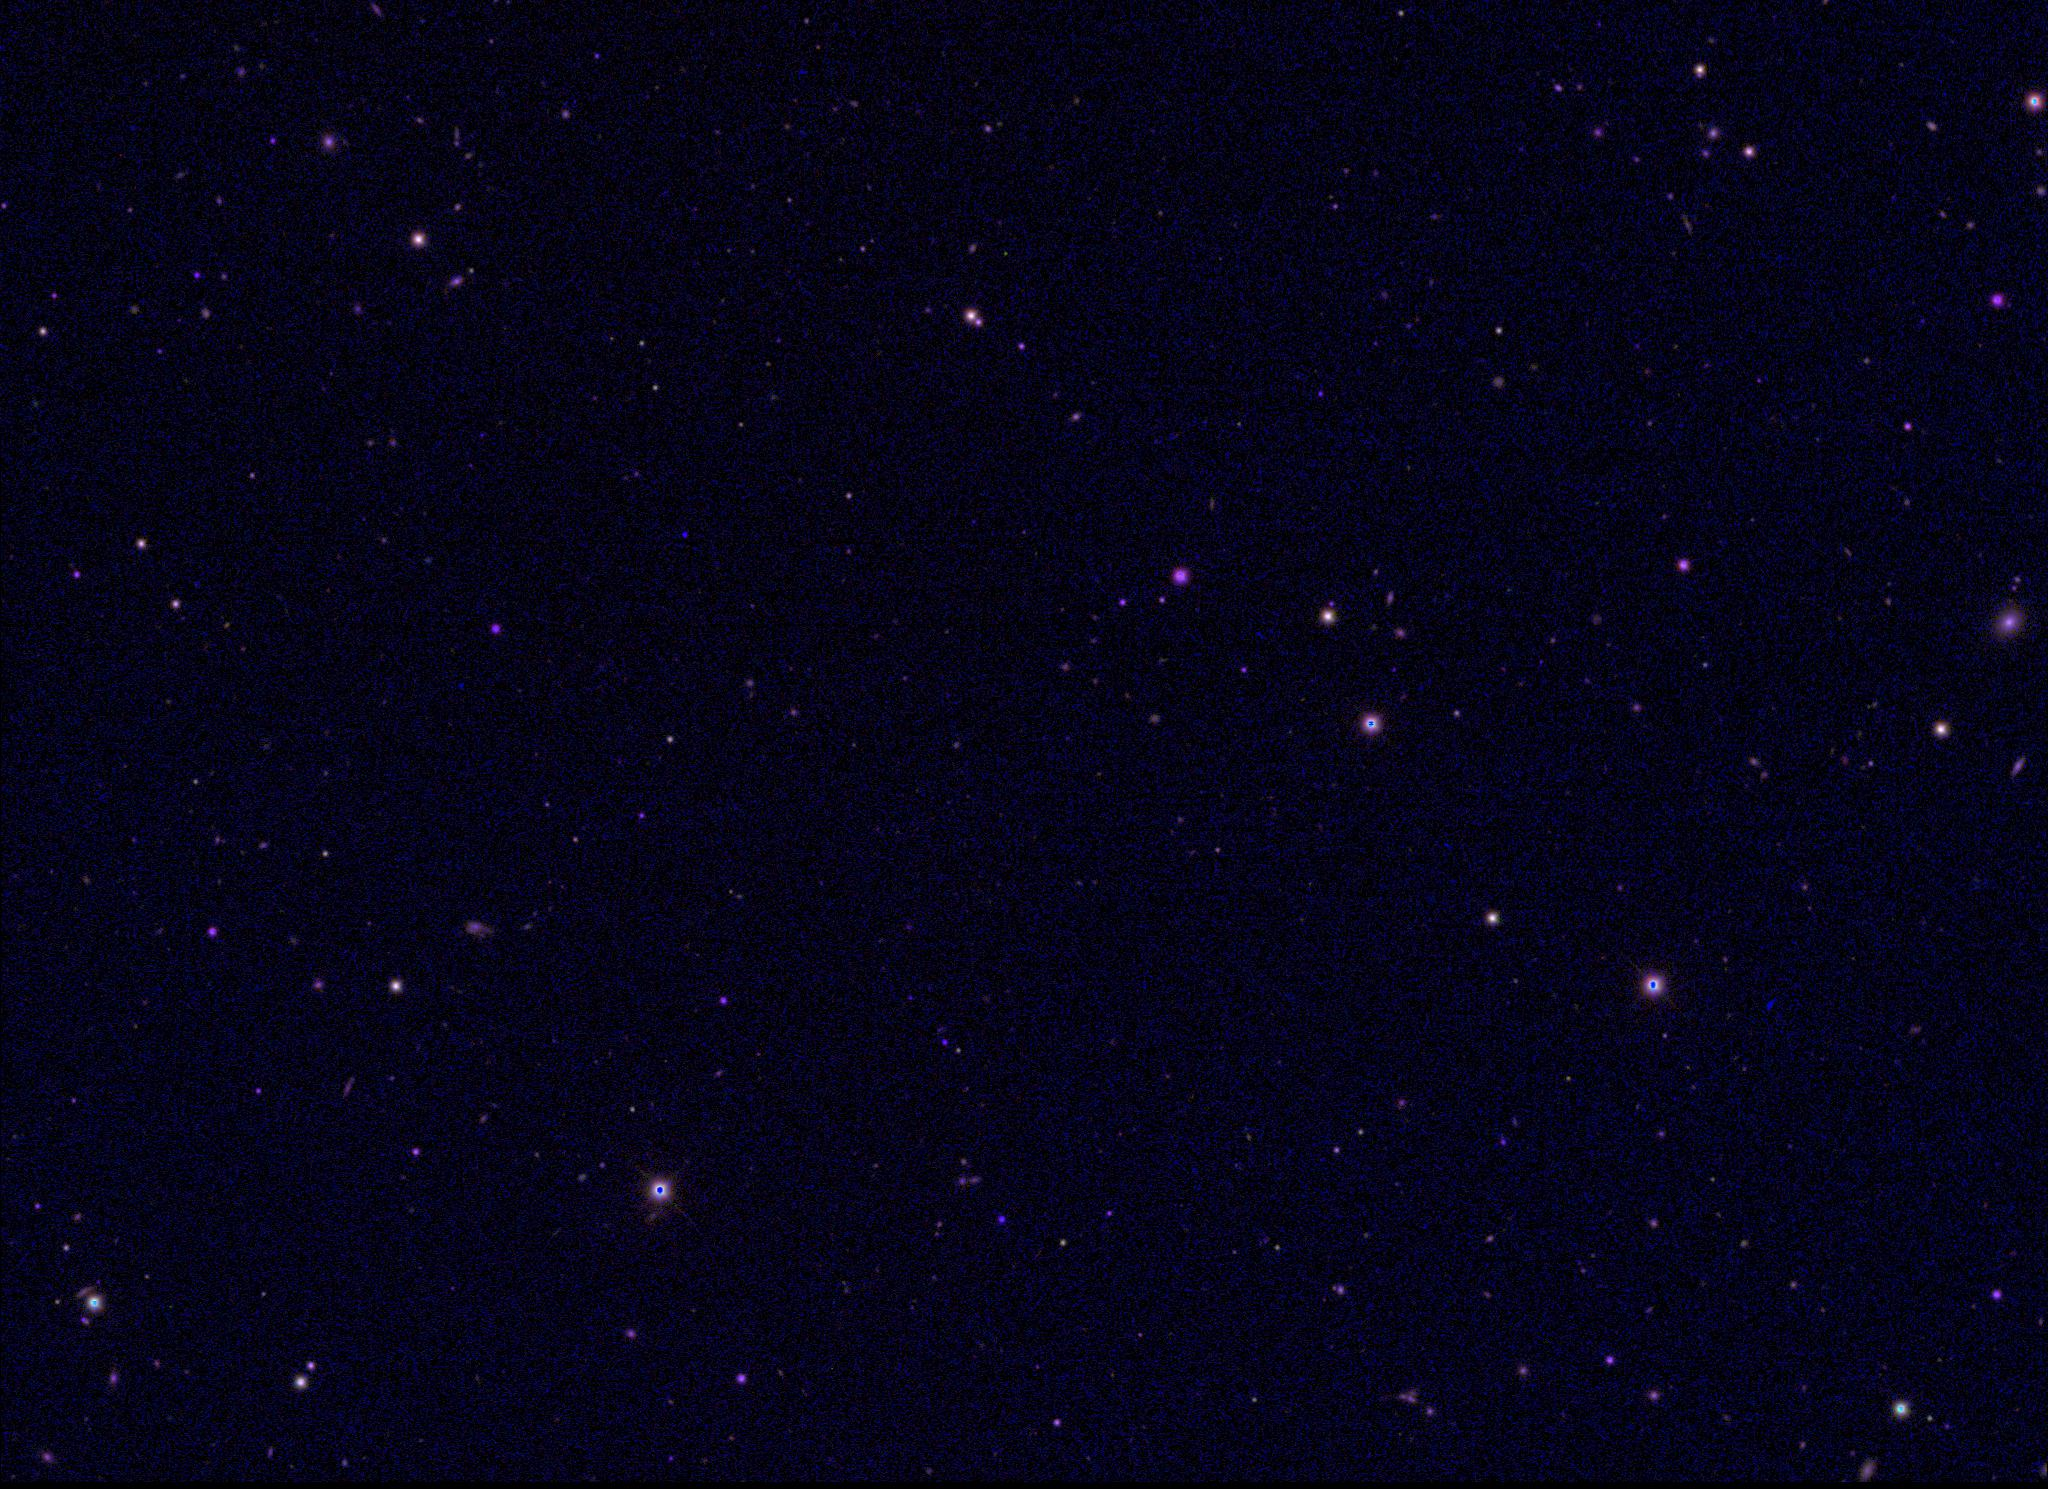L: (677, 528, 692, 542)
